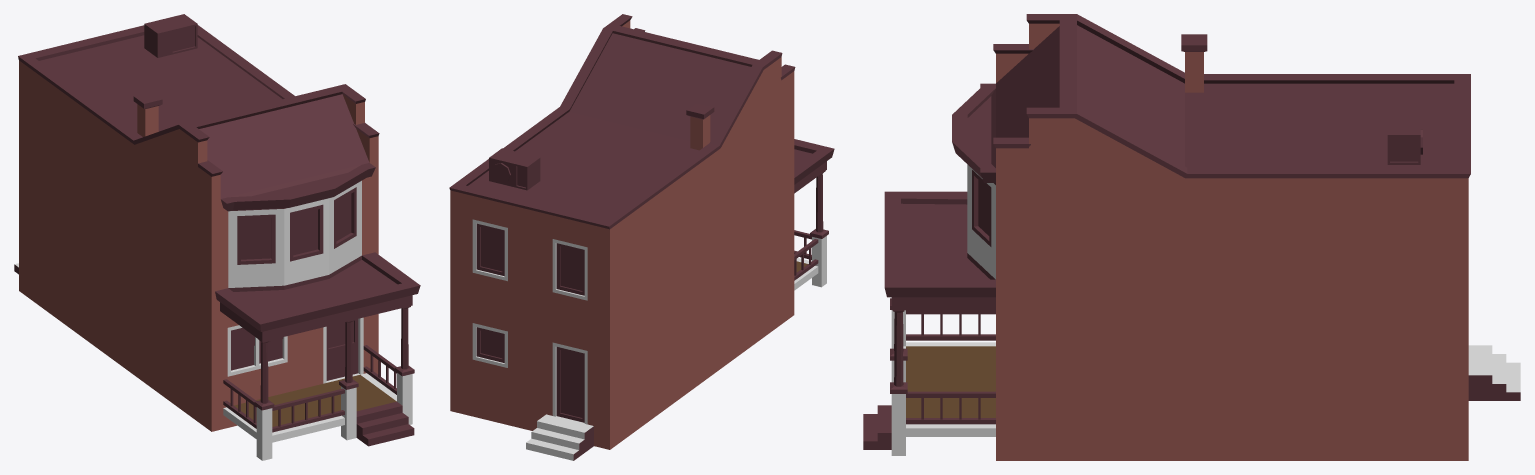
File: building-house-block-old.fbx
3 renders of one model, left to right at view 1: azimuth 30°, elevation 25°; view 2: azimuth 150°, elevation 25°; view 3: azimuth 270°, elevation 25°, orthographic. The views are drawn at different scales.
Visible parts, largest first — view 1: building-house-block-old; view 2: building-house-block-old; view 3: building-house-block-old.
Boxes of the visible parts, left/top/right/bottom form: building-house-block-old: left=14, top=14, right=420, bottom=460; building-house-block-old: left=449, top=14, right=834, bottom=460; building-house-block-old: left=863, top=14, right=1520, bottom=460.
Bounding box in the file's own units: 5 × 8.1 × 13.9.
